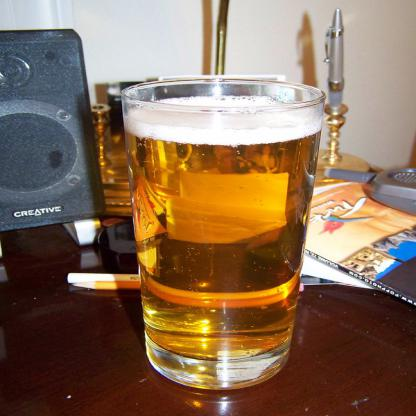drinking: (120, 78, 327, 391)
